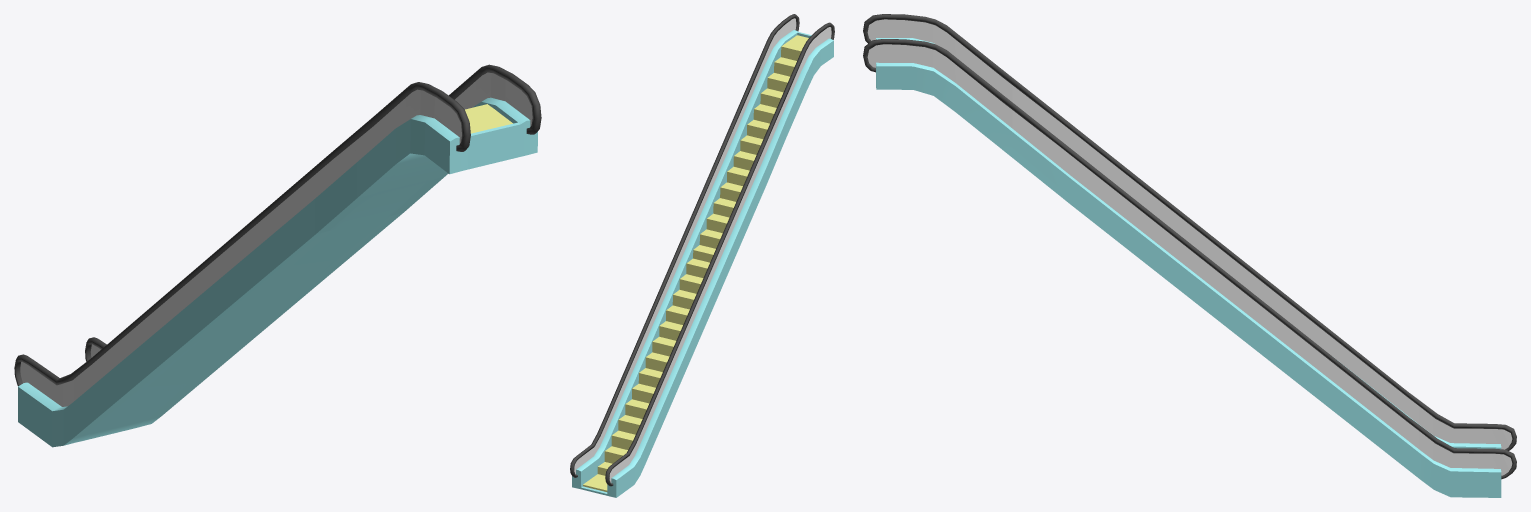
The model's file is Escalator_03.fbx.
The picture shows the model from 3 angles, left to right: view 1: azimuth 30°, elevation 25°; view 2: azimuth 150°, elevation 25°; view 3: azimuth 270°, elevation 25°; orthographic projection. The views are drawn at different scales.
Parts seen in each view (by area): view 1: Base, R_Glass_Panel, R_rail, L_Glass_Panel, L_Rail, Stairs_02; view 2: Base, Stairs_01, Stairs_02, R_rail, L_Rail, R_Glass_Panel, L_Glass_Panel; view 3: Base, L_Glass_Panel, R_Glass_Panel, L_Rail, R_rail.
Part boxes in pixels (box(x1,y1,x2,y2)): Base: box(18, 97, 537, 447); R_Glass_Panel: box(20, 89, 461, 406); R_rail: box(14, 82, 470, 386); L_Glass_Panel: box(90, 72, 532, 357); L_Rail: box(85, 64, 541, 361); Stairs_02: box(465, 104, 512, 133); Base: box(572, 30, 833, 497); Stairs_01: box(583, 258, 709, 491); Stairs_02: box(693, 35, 808, 262); R_rail: box(605, 22, 834, 486); L_Rail: box(570, 14, 799, 477); R_Glass_Panel: box(609, 27, 831, 482); L_Glass_Panel: box(574, 18, 796, 474); Base: box(876, 38, 1501, 497); L_Glass_Panel: box(867, 44, 1512, 475); R_Glass_Panel: box(867, 19, 1512, 449); L_Rail: box(863, 39, 1516, 479); R_rail: box(863, 14, 1516, 450).
Size of the model in its own units: 2.14 by 14.28 by 18.57.
